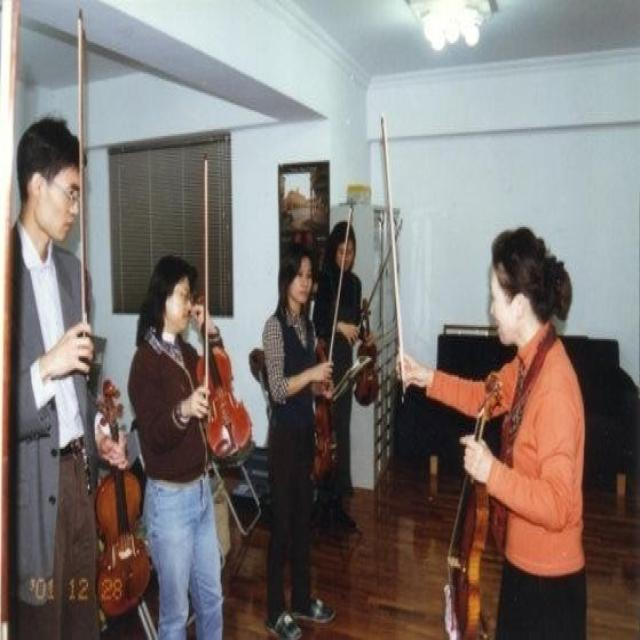violin: (447, 372, 504, 640), (94, 378, 154, 619), (191, 292, 253, 466), (310, 339, 340, 489), (354, 298, 382, 407)
